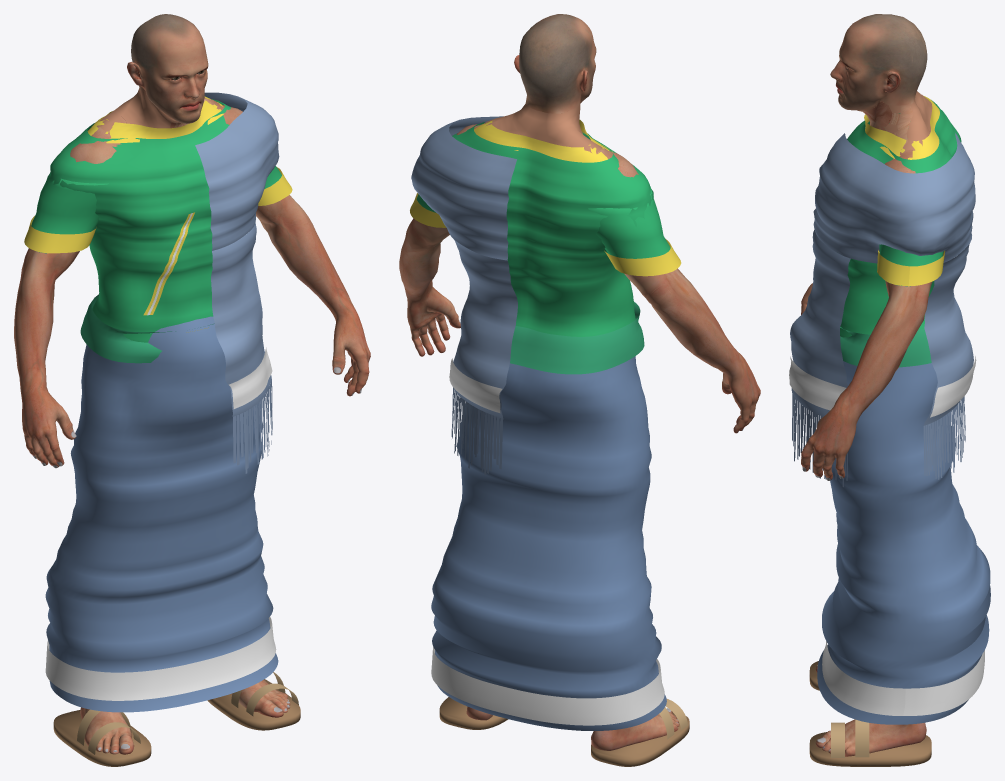
Rendered from male-raya.glb.
3 renders of one model, left to right at view 1: azimuth 30°, elevation 25°; view 2: azimuth 150°, elevation 25°; view 3: azimuth 270°, elevation 25°, orthographic.
Parts seen in each view (by area): view 1: HM_Skirt, HM_Tee, Object_2, HM_Shawl_Shoulder, HM_Embroidery_Hem, Object_7, HM_Shawl_Front, HM_Sleeve_R, Object_8, HM_Belt, HM_Sandal_Sole_R, HM_Fringe_Front (+5 smaller); view 2: HM_Skirt, HM_Tee, Object_2, HM_Shawl_Shoulder, HM_Shawl_Back, HM_Embroidery_Hem, Object_7, HM_Belt, HM_Sleeve_R, Object_11, HM_Fringe_Back, HM_Collar (+5 smaller); view 3: HM_Skirt, HM_Shawl_Shoulder, Object_2, Object_7, HM_Shawl_Front, HM_Tee, HM_Embroidery_Hem, HM_Shawl_Back, HM_Fringe_Back, HM_Sandal_Sole_L, Object_8, HM_Belt (+10 smaller).
Part boxes in pixels (x1,y1,x2,y2): HM_Skirt: (45,316,278,712); HM_Tee: (43,99,230,342); Object_2: (14,100,370,467); HM_Shawl_Shoulder: (195,92,279,250); HM_Embroidery_Hem: (45,617,276,700); Object_7: (127,14,208,123); HM_Shawl_Front: (211,223,271,416); HM_Sleeve_R: (31,172,108,253); Object_8: (80,680,290,754); HM_Belt: (80,294,214,363); HM_Sandal_Sole_R: (53,709,151,766); HM_Fringe_Front: (233,381,272,473); HM_Skirt: (431,356,666,730); HM_Tee: (452,122,653,336); Object_2: (399,122,760,433); HM_Shawl_Shoulder: (411,116,516,260); HM_Shawl_Back: (452,237,517,418); HM_Embroidery_Hem: (431,646,664,725); Object_7: (514,14,596,113); HM_Belt: (510,302,644,374); HM_Sleeve_R: (588,186,670,258); Object_11: (485,97,603,153); HM_Fringe_Back: (451,387,503,474); HM_Collar: (474,119,612,162); HM_Skirt: (817,361,990,724); HM_Shawl_Shoulder: (813,133,975,263); Object_2: (801,113,932,479); Object_7: (830,14,927,112); HM_Shawl_Front: (790,229,850,416); HM_Tee: (840,100,961,337); HM_Embroidery_Hem: (822,641,984,715); HM_Shawl_Back: (923,243,973,425); HM_Fringe_Back: (923,396,965,479); HM_Sandal_Sole_L: (809,732,931,766); Object_8: (815,666,926,756); HM_Belt: (840,327,931,367).
Bounding box in the file's own units: 88.22 × 174 × 45.54.
19 materials, 7 textured.
